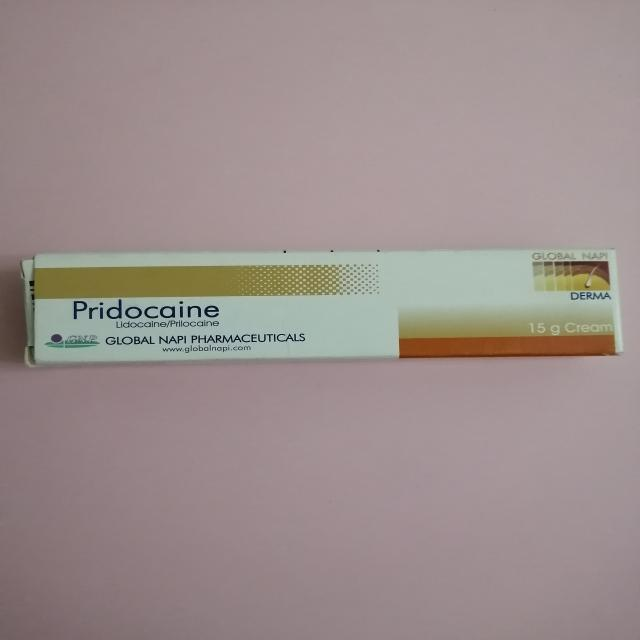Medicine Name: (63, 297, 229, 324)
